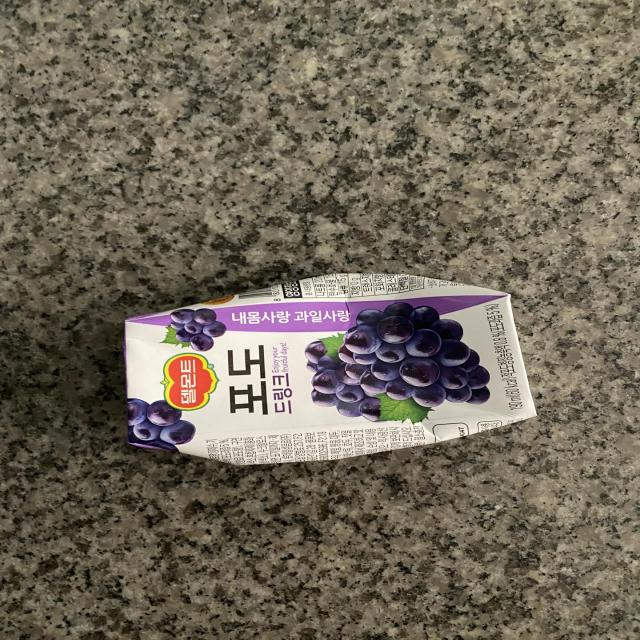paperpack: (124, 273, 536, 466)
